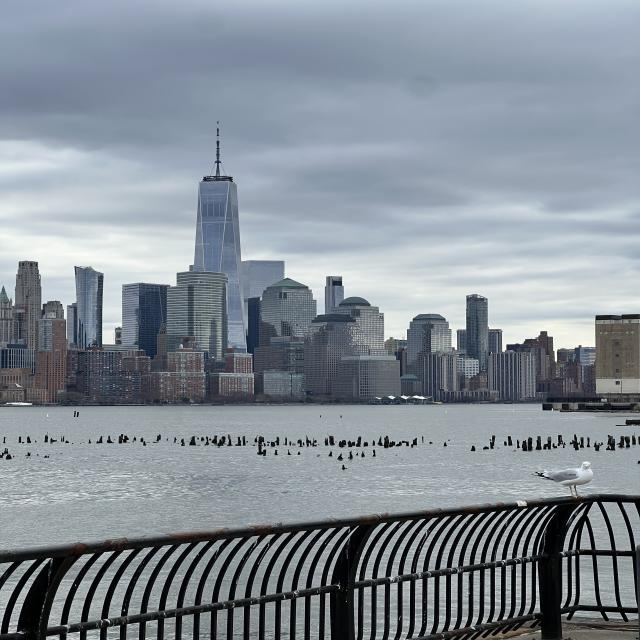WTC: (192, 120, 242, 271)
